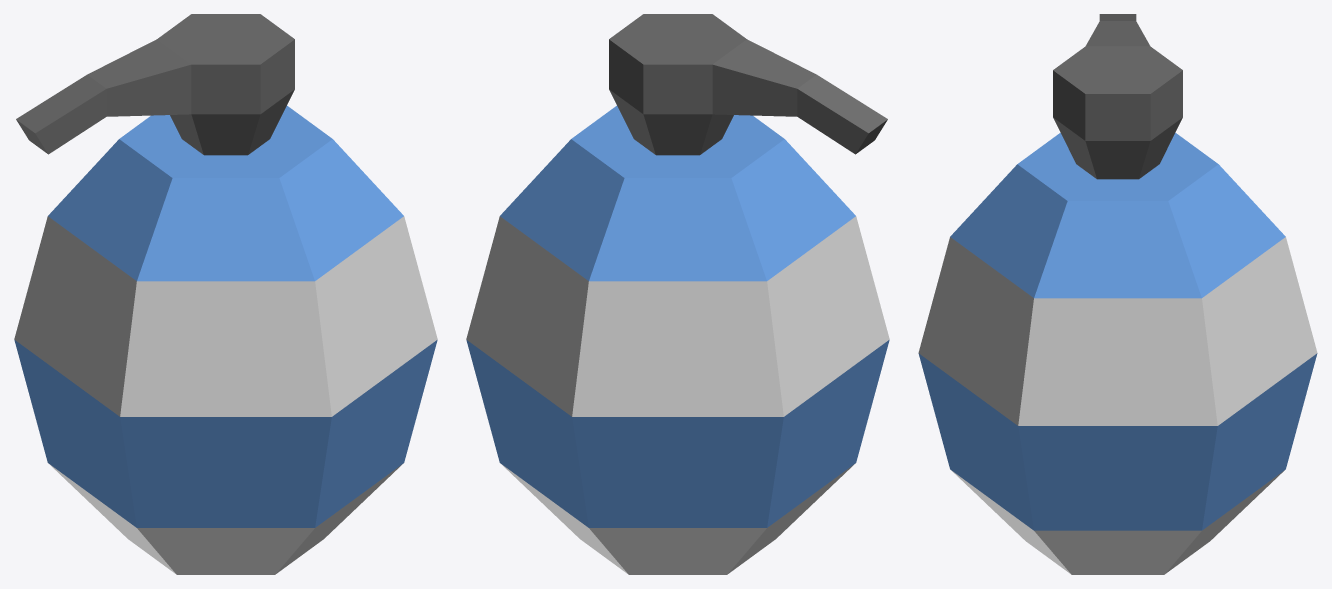
File: soapBottle.fbx
The picture shows the model from 3 angles, left to right: view 1: azimuth 30°, elevation 25°; view 2: azimuth 150°, elevation 25°; view 3: azimuth 270°, elevation 25°; orthographic projection. The views are drawn at different scales.
Parts seen in each view (by area): view 1: soapBottle; view 2: soapBottle; view 3: soapBottle.
Boxes of the visible parts, x1,y1,x2,y2 form: soapBottle: (14,14,437,574); soapBottle: (466,14,889,574); soapBottle: (918,14,1317,574).
Bounding box in the file's own units: 26.96 × 35.83 × 27.52.
